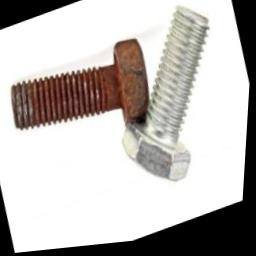Corroded-Bolt: (11, 40, 151, 130)
Non-corroded-Bolts: (123, 8, 209, 185)
